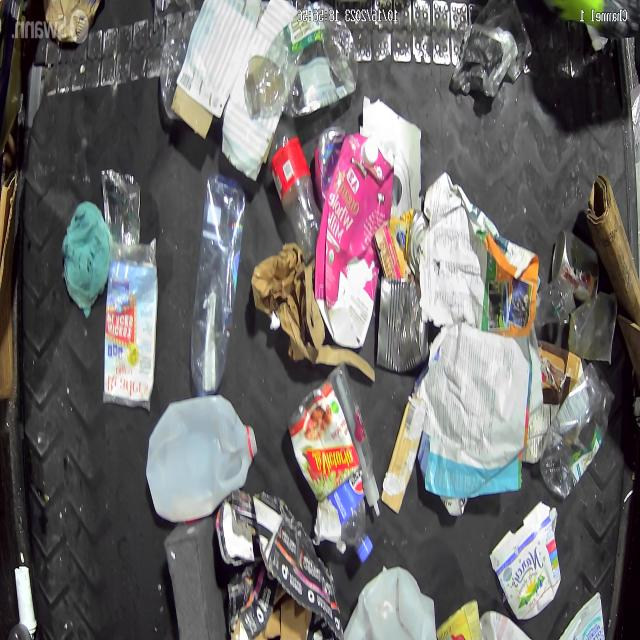can: (377, 276, 428, 372), (374, 212, 430, 282), (552, 228, 599, 302), (101, 168, 141, 243)
milk_jug: (145, 395, 258, 524), (343, 564, 436, 640), (436, 597, 482, 640)
non_white_jug: (313, 133, 396, 349)
plastic_bottle: (244, 2, 357, 120), (190, 174, 246, 396), (538, 362, 615, 498), (268, 121, 323, 262)
